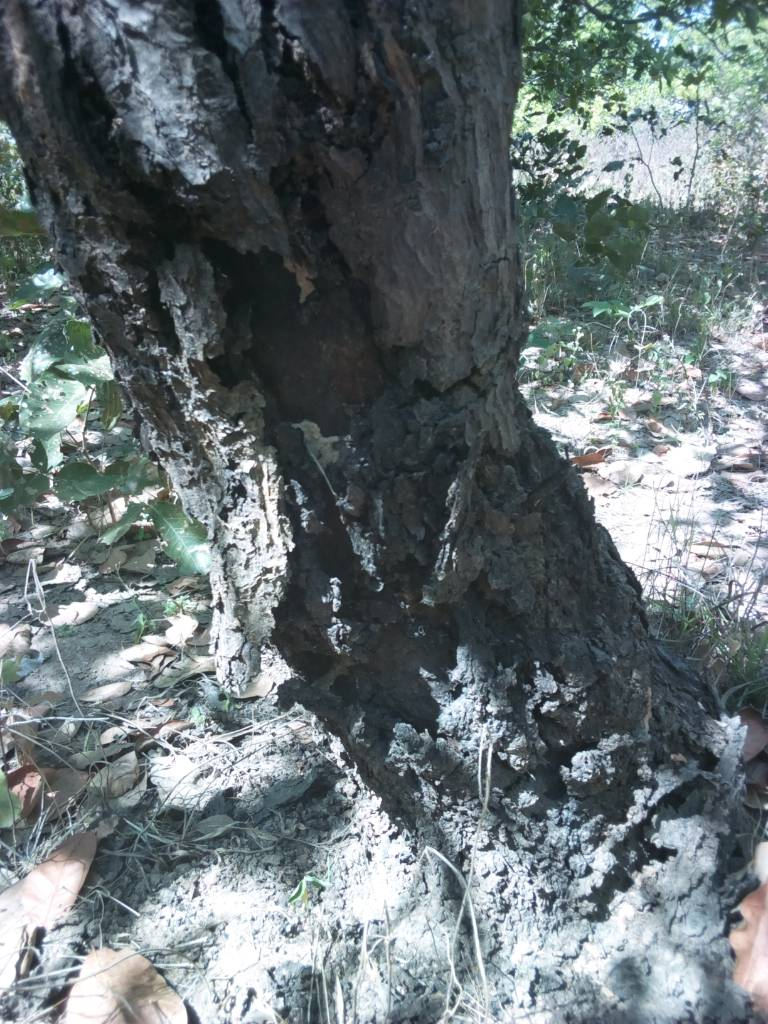Termites: (155, 272, 657, 713)
